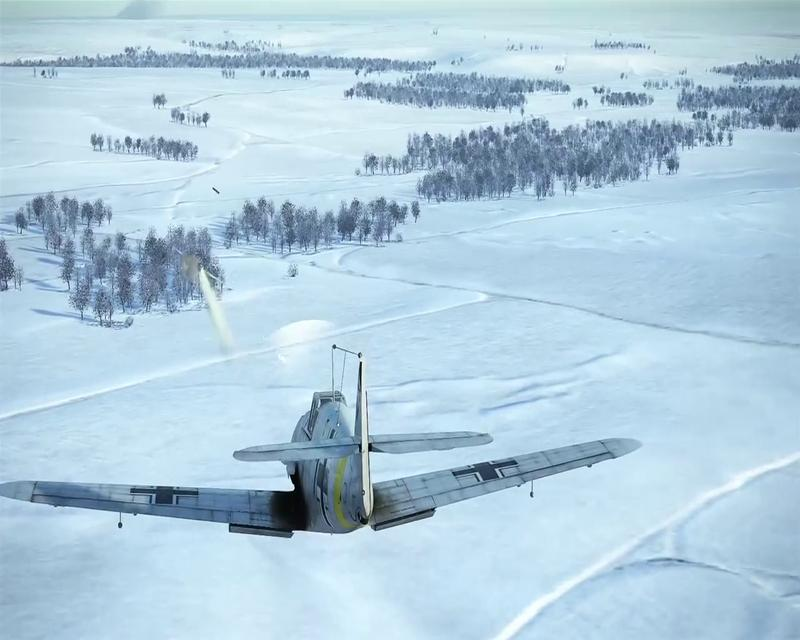UAV: (0, 343, 649, 539)
